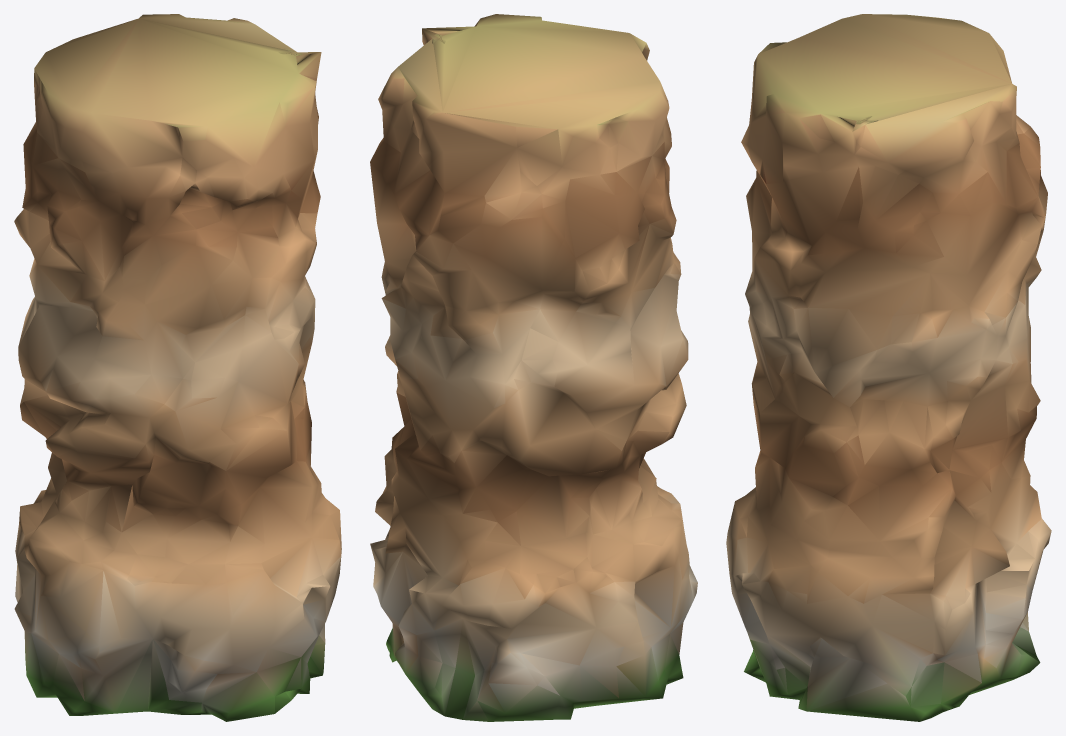
Rendered from shore_sea_stack_lod2.glb.
3 views of the same model, side by side, from view 1: azimuth 30°, elevation 25°; view 2: azimuth 150°, elevation 25°; view 3: azimuth 270°, elevation 25° (orthographic).
Parts seen in each view (by area): view 1: shore_sea_stack.001; view 2: shore_sea_stack.001; view 3: shore_sea_stack.001.
Part boxes in pixels (x1,y1,x2,y2): shore_sea_stack.001: [14, 14, 341, 721]; shore_sea_stack.001: [370, 14, 697, 721]; shore_sea_stack.001: [726, 14, 1051, 721].
Bounding box in the file's own units: 11.34 × 22.64 × 11.3.
